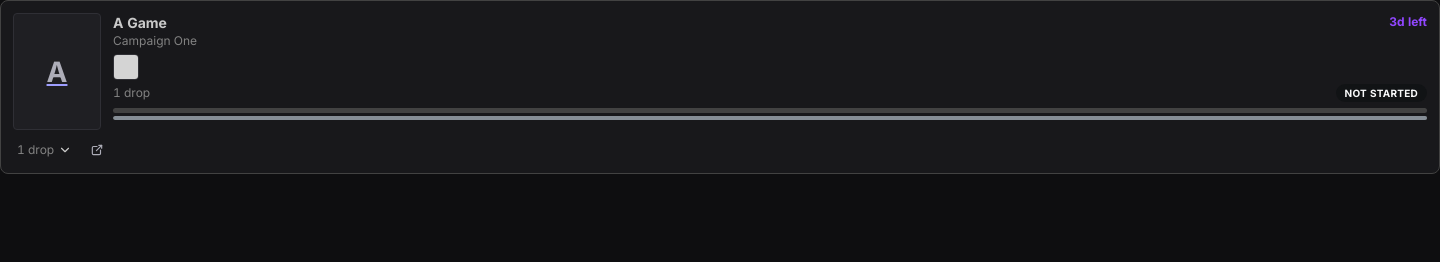
Test: drops are hidden until the card is expanded
Click the button with aria-label "campaign one, 1 drop": (45, 150) [13,140,76,161]
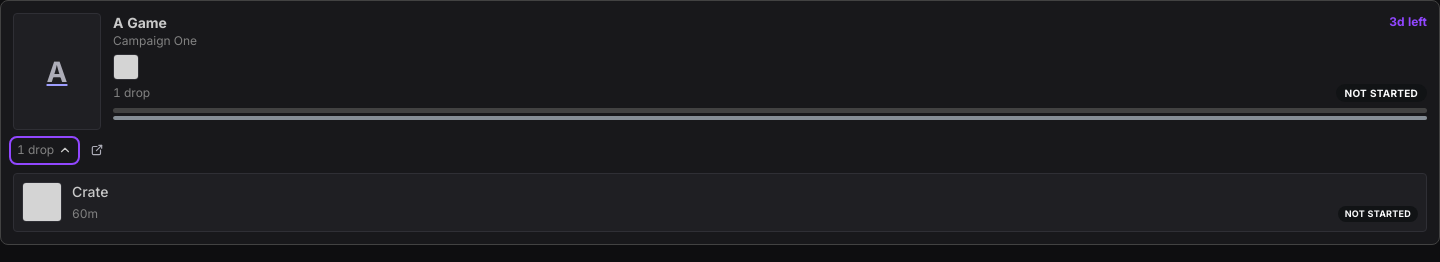
Now the element with test id "drop-row" is shown, box [13,173,1427,232]
